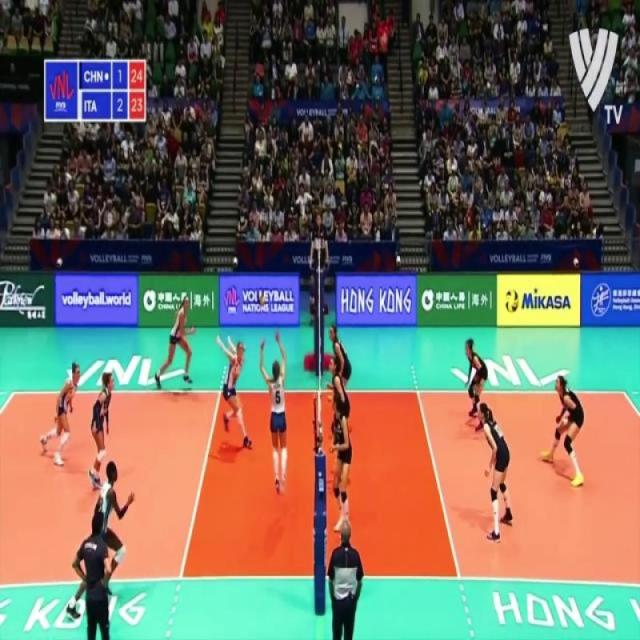volleyball: (503, 287, 520, 317), (257, 294, 268, 309)
